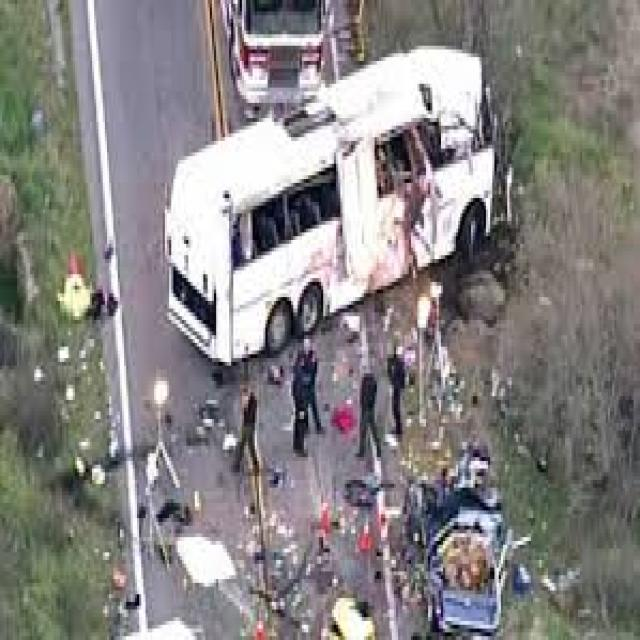accident: (132, 22, 620, 368), (343, 432, 580, 640)
